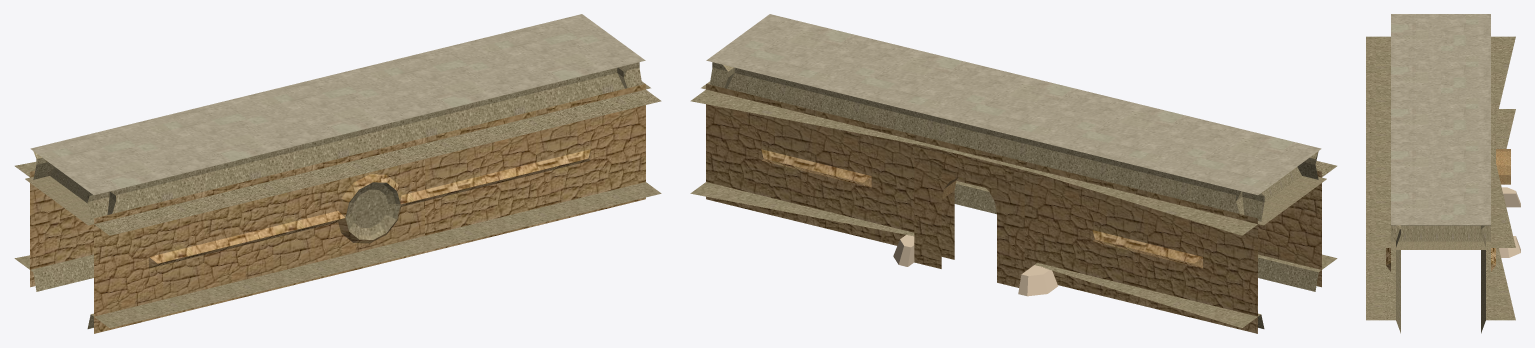
Rendered from LibraryCorridorNoColliders.glb.
3 views of the same model, side by side, from view 1: azimuth 30°, elevation 25°; view 2: azimuth 150°, elevation 25°; view 3: azimuth 270°, elevation 25° (orthographic). The views are drawn at different scales.
Visible parts, largest first — view 1: object1.019, object1.006, object1.003, object1.004, object1.001, object1.005, object1.014, object1.018, object1.012, object1.024; view 2: object1.019, object1.013, object1, object1.024, object1.016, object1.014, object1.015, object1.028, object1.003, object1.005, object1.012, object1.008 (+4 smaller); view 3: object1.019, object1.006, object1.005, object1.020, object1.008, object1.024, object1.028, object1.012, object1, object1.011, object1.007.
Part boxes in pixels (bbox=[...]): object1.019: bbox=[30, 14, 645, 195]; object1.006: bbox=[87, 62, 661, 235]; object1.003: bbox=[94, 164, 317, 333]; object1.004: bbox=[425, 84, 645, 252]; object1.001: bbox=[314, 137, 427, 279]; object1.005: bbox=[87, 182, 661, 328]; object1.014: bbox=[30, 170, 93, 287]; object1.018: bbox=[25, 167, 115, 225]; object1.012: bbox=[14, 254, 93, 291]; object1.024: bbox=[15, 151, 54, 179]; object1.019: bbox=[706, 14, 1321, 195]; object1.013: bbox=[1037, 164, 1147, 306]; object1: bbox=[914, 137, 1037, 287]; object1.024: bbox=[924, 116, 1264, 235]; object1.016: bbox=[706, 84, 816, 225]; object1.014: bbox=[1144, 191, 1257, 333]; object1.015: bbox=[813, 111, 926, 245]; object1.028: bbox=[690, 62, 933, 145]; object1.003: bbox=[1258, 170, 1321, 287]; object1.005: bbox=[954, 181, 1337, 291]; object1.012: bbox=[1034, 263, 1264, 328]; object1.008: bbox=[690, 182, 914, 236]; object1.019: bbox=[1391, 14, 1490, 225]; object1.006: bbox=[1366, 36, 1400, 247]; object1.005: bbox=[1366, 248, 1400, 333]; object1.020: bbox=[1391, 225, 1490, 249]; object1.008: bbox=[1481, 248, 1515, 333]; object1.024: bbox=[1491, 36, 1515, 163]; object1.028: bbox=[1481, 163, 1515, 247]; object1.012: bbox=[1496, 109, 1515, 148]; object1: bbox=[1496, 149, 1510, 184]; object1.011: bbox=[1501, 187, 1520, 207]; object1.007: bbox=[1499, 236, 1520, 257].
Bounding box in the file's own units: 5.1 × 1.2 × 1.55.
Materials: 5 (3 with a texture image).
